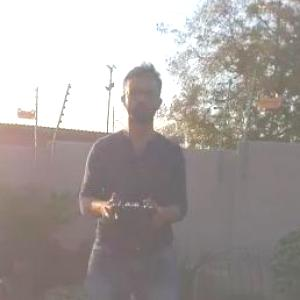follow: (66, 52, 193, 299)
